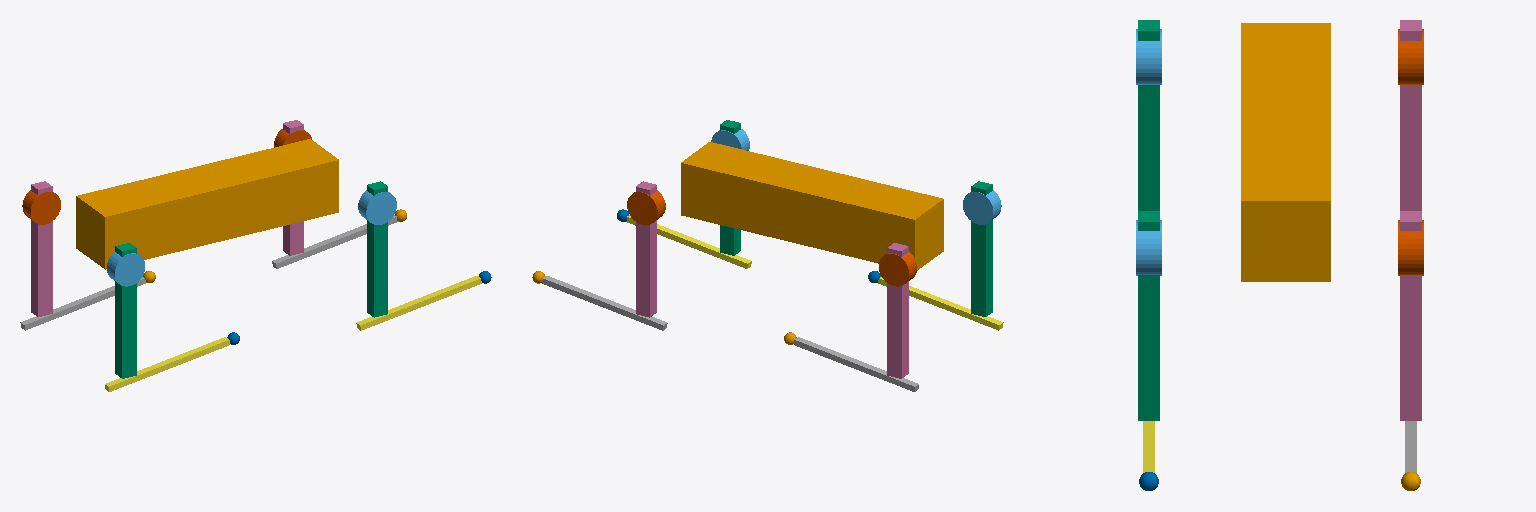
The robot description file, URDF, robot "arclabdog":
<?xml version="1.0" ?>
<robot name="arclabdog" xmlns:xacro="http://www.ros.org/wiki/xacro">
  <link name="trunk">
    <visual>
      <origin rpy="0 0 0" xyz="0 0 0"/>
      <geometry>
        <box size="0.7 0.15 0.15"/>
      </geometry>
    </visual>
    <collision>
      <origin rpy="0 0 0" xyz="0 0 0"/>
      <geometry>
        <box size="0.7 0.3 0.15"/>
      </geometry>
    </collision>
    <inertial>
      <origin xyz="0 0 0" rpy="0 0 0" />
      <mass value="2.0" />
      <inertia ixx="0.08" ixy="0" ixz="0" iyy="0.015" iyz="0" izz="0.022" />
    </inertial>
  </link>
  <joint name="FR_hip_joint" type="revolute">
    <origin rpy="0 0 0" xyz="0.376 -0.1065 0"/>
    <parent link="trunk"/>
    <child link="FR_hip"/>
    <axis xyz="1 0 0"/>
    <dynamics damping="0" friction="0"/>
    <limit effort="44.4" lower="-1.2217304764" upper="1.2217304764" velocity="40"/>
  </joint>
  <link name="FR_hip">
    <visual>
      <origin rpy="1.57079632679 0 0" xyz="0 -0.1215 0"/>
      <geometry>
        <cylinder length="0.0418" radius="0.046"/>
      </geometry>
    </visual>
    <collision>
      <origin rpy="1.57079632679 0 0" xyz="0 -0.1215 0"/>
      <geometry>
        <cylinder length="0.0418" radius="0.046"/>
      </geometry>
    </collision>
    <inertial>
      <origin rpy="0 0 0" xyz="-0.022 -0.015 0"/>
      <mass value="1.993"/>
      <inertia ixx="0.002" ixy="0" ixz="0" iyy="0.004" iyz="0" izz="0.005"/>
    </inertial>
  </link>
  <joint name="FR_thigh_joint" type="revolute">
    <origin rpy="0 0 0" xyz="0 -0.1215 0"/>
    <parent link="FR_hip"/>
    <child link="FR_thigh"/>
    <axis xyz="0 1 0"/>
    <dynamics damping="0" friction="0"/>
    <limit effort="44.4" velocity="40"/>
  </joint>
  <link name="FR_thigh">
    <visual>
      <origin rpy="0 1.57079632679 0" xyz="0 0 -0.125"/>
      <geometry>
        <box size="0.3645 0.0374 0.043"/>
      </geometry>
    </visual>
    <collision>
      <origin rpy="0 1.57079632679 0" xyz="0 0 -0.125"/>
      <geometry>
        <box size="0.3645 0.0374 0.043"/>
      </geometry>
    </collision>
    <inertial>
      <origin rpy="0 0 0" xyz="-0.005 0.003 -0.048"/>
      <mass value="0.639"/>
      <inertia ixx="0.005" ixy="0" ixz="0" iyy="0.005" iyz="0" izz="0"/>
    </inertial>
  </link>
  <joint name="FR_calf_joint" type="revolute">
    <origin rpy="0 0 0" xyz="0 0 -0.3245"/>
    <parent link="FR_thigh"/>
    <child link="FR_calf"/>
    <axis xyz="0 1 0"/>
    <dynamics damping="0" friction="0"/>
    <limit effort="44.4" lower="-2.77507351067" upper="-0.645771823238" velocity="40"/>
  </joint>
  <link name="FR_calf">
    <visual>
      <origin rpy="0 1.57079632679 0" xyz="0 0 -0.125"/>
      <geometry>
        <box size="0.3645 0.0208 0.016"/>
      </geometry>
    </visual>
    <collision>
      <origin rpy="0 1.57079632679 0" xyz="0 0 -0.125"/>
      <geometry>
        <box size="0.3645 0.0208 0.016"/>
      </geometry>
    </collision>
    <inertial>
      <origin rpy="0 0 0" xyz="0.002 0 -0.142"/>
      <mass value="0.207"/>
      <inertia ixx="0.006" ixy="0" ixz="0" iyy="0.006" iyz="0" izz="0"/>
    </inertial>
  </link>
  <joint name="FR_foot_fixed" type="fixed" dont_collapse="true">
    <origin rpy="0 0 0" xyz="0 0 -0.3245"/>
    <parent link="FR_calf"/>
    <child link="FR_foot"/>
  </joint>
  <link name="FR_foot">
    <visual>
      <origin rpy="0 0 0" xyz="0 0 0"/>
      <geometry>
        <sphere radius="0.0165"/>
      </geometry>
      <material name="green"/>
    </visual>
    <collision>
      <origin rpy="0 0 0" xyz="0 0 0"/>
      <geometry>
        <sphere radius="0.0165"/>
      </geometry>
    </collision>
    <inertial>
      <mass value="0.06"/>
      <inertia ixx="0" ixy="0" ixz="0" iyy="0" iyz="0" izz="0"/>
    </inertial>
  </link>
  <joint name="FL_hip_joint" type="revolute">
    <origin rpy="0 0 0" xyz="0.376 0.1065 0"/>
    <parent link="trunk"/>
    <child link="FL_hip"/>
    <axis xyz="1 0 0"/>
    <dynamics damping="0" friction="0"/>
    <limit effort="44.4" lower="-1.2217304764" upper="1.2217304764" velocity="40"/>
  </joint>
  <link name="FL_hip">
    <visual>
      <origin rpy="1.57079632679 0 0" xyz="0 0.1015 0"/>
      <geometry>
        <cylinder length="0.0418" radius="0.046"/>
      </geometry>
    </visual>
    <collision>
      <origin rpy="1.57079632679 0 0" xyz="0 0.1015 0"/>
      <geometry>
        <cylinder length="0.0418" radius="0.046"/>
      </geometry>
    </collision>
    <inertial>
      <origin rpy="0 0 0" xyz="-0.022 0.015 0"/>
      <mass value="1.993"/>
      <inertia ixx="0.002" ixy="0" ixz="0" iyy="0.004" iyz="0" izz="0.005"/>
    </inertial>
  </link>
  <joint name="FL_thigh_joint" type="revolute">
    <origin rpy="0 0 0" xyz="0 0.1015 0"/>
    <parent link="FL_hip"/>
    <child link="FL_thigh"/>
    <axis xyz="0 1 0"/>
    <dynamics damping="0" friction="0"/>
    <limit effort="44.4" velocity="40"/>
  </joint>
  <link name="FL_thigh">
    <visual>
      <origin rpy="0 1.57079632679 0" xyz="0 0 -0.125"/>
      <geometry>
        <box size="0.3645 0.0374 0.043"/>
      </geometry>
    </visual>
    <collision>
      <origin rpy="0 1.57079632679 0" xyz="0 0 -0.125"/>
      <geometry>
        <box size="0.3645 0.0374 0.043"/>
      </geometry>
    </collision>
    <inertial>
      <origin rpy="0 0 0" xyz="-0.005 -0.003 -0.048"/>
      <mass value="0.639"/>
      <inertia ixx="0.005" ixy="0" ixz="0" iyy="0.005" iyz="0" izz="0"/>
    </inertial>
  </link>
  <joint name="FL_calf_joint" type="revolute">
    <origin rpy="0 0 0" xyz="0 0 -0.3245"/>
    <parent link="FL_thigh"/>
    <child link="FL_calf"/>
    <axis xyz="0 1 0"/>
    <dynamics damping="0" friction="0"/>
    <limit effort="44.4" lower="-2.77507351067" upper="-0.645771823238" velocity="40"/>
  </joint>
  <link name="FL_calf">
    <visual>
      <origin rpy="0 1.57079632679 0" xyz="0 0 -0.125"/>
      <geometry>
        <box size="0.3645 0.0208 0.016"/>
      </geometry>
    </visual>
    <collision>
      <origin rpy="0 1.57079632679 0" xyz="0 0 -0.125"/>
      <geometry>
        <box size="0.3645 0.0208 0.016"/>
      </geometry>
    </collision>
    <inertial>
      <origin rpy="0 0 0" xyz="0.002 0 -0.142"/>
      <mass value="0.207"/>
      <inertia ixx="0.006" ixy="0" ixz="0" iyy="0.006" iyz="0" izz="0"/>
    </inertial>
  </link>
  <joint name="FL_foot_fixed" type="fixed" dont_collapse="true">
    <origin rpy="0 0 0" xyz="0 0 -0.3245"/>
    <parent link="FL_calf"/>
    <child link="FL_foot"/>
  </joint>
  <link name="FL_foot">
    <visual>
      <origin rpy="0 0 0" xyz="0 0 0"/>
      <geometry>
        <sphere radius="0.0165"/>
      </geometry>
      <material name="green"/>
    </visual>
    <collision>
      <origin rpy="0 0 0" xyz="0 0 0"/>
      <geometry>
        <sphere radius="0.0165"/>
      </geometry>
    </collision>
    <inertial>
      <mass value="0.06"/>
      <inertia ixx="0" ixy="0" ixz="0" iyy="0" iyz="0" izz="0"/>
    </inertial>
  </link>
  <joint name="RR_hip_joint" type="revolute">
    <origin rpy="0 0 0" xyz="-0.376 -0.1065 0"/>
    <parent link="trunk"/>
    <child link="RR_hip"/>
    <axis xyz="1 0 0"/>
    <dynamics damping="0" friction="0"/>
    <limit effort="44.4" lower="-1.2217304764" upper="1.2217304764" velocity="40"/>
  </joint>
  <link name="RR_hip">
    <visual>
      <origin rpy="1.57079632679 0 0" xyz="0 -0.1215 0"/>
      <geometry>
        <cylinder length="0.0418" radius="0.046"/>
      </geometry>
    </visual>
    <collision>
      <origin rpy="1.57079632679 0 0" xyz="0 -0.1215 0"/>
      <geometry>
        <cylinder length="0.0418" radius="0.046"/>
      </geometry>
    </collision>
    <inertial>
      <origin rpy="0 0 0" xyz="0.022 -0.015 0"/>
      <mass value="1.993"/>
      <inertia ixx="0.002" ixy="0" ixz="0" iyy="0.004" iyz="0" izz="0.005"/>
    </inertial>
  </link>
  <joint name="RR_thigh_joint" type="revolute">
    <origin rpy="0 0 0" xyz="0 -0.1215 0"/>
    <parent link="RR_hip"/>
    <child link="RR_thigh"/>
    <axis xyz="0 1 0"/>
    <dynamics damping="0" friction="0"/>
    <limit effort="44.4" velocity="40"/>
  </joint>
  <link name="RR_thigh">
    <visual>
      <origin rpy="0 1.57079632679 0" xyz="0 0 -0.125"/>
      <geometry>
        <box size="0.3645 0.0374 0.043"/>
      </geometry>
    </visual>
    <collision>
      <origin rpy="0 1.57079632679 0" xyz="0 0 -0.125"/>
      <geometry>
        <box size="0.3645 0.0374 0.043"/>
      </geometry>
    </collision>
    <inertial>
      <origin rpy="0 0 0" xyz="-0.005 0.003 -0.048"/>
      <mass value="0.639"/>
      <inertia ixx="0.005" ixy="0" ixz="0" iyy="0.005" iyz="0" izz="0"/>
    </inertial>
  </link>
  <joint name="RR_calf_joint" type="revolute">
    <origin rpy="0 0 0" xyz="0 0 -0.3245"/>
    <parent link="RR_thigh"/>
    <child link="RR_calf"/>
    <axis xyz="0 1 0"/>
    <dynamics damping="0" friction="0"/>
    <limit effort="44.4" lower="-2.77507351067" upper="-0.645771823238" velocity="40"/>
  </joint>
  <link name="RR_calf">
    <visual>
      <origin rpy="0 1.57079632679 0" xyz="0 0 -0.125"/>
      <geometry>
        <box size="0.3645 0.0208 0.016"/>
      </geometry>
    </visual>
    <collision>
      <origin rpy="0 1.57079632679 0" xyz="0 0 -0.125"/>
      <geometry>
        <box size="0.3645 0.0208 0.016"/>
      </geometry>
    </collision>
    <inertial>
      <origin rpy="0 0 0" xyz="0.002 0 -0.142"/>
      <mass value="0.207"/>
      <inertia ixx="0.006" ixy="0" ixz="0" iyy="0.006" iyz="0" izz="0"/>
    </inertial>
  </link>
  <joint name="RR_foot_fixed" type="fixed" dont_collapse="true">
    <origin rpy="0 0 0" xyz="0 0 -0.3245"/>
    <parent link="RR_calf"/>
    <child link="RR_foot"/>
  </joint>
  <link name="RR_foot">
    <visual>
      <origin rpy="0 0 0" xyz="0 0 0"/>
      <geometry>
        <sphere radius="0.0165"/>
      </geometry>
      <material name="green"/>
    </visual>
    <collision>
      <origin rpy="0 0 0" xyz="0 0 0"/>
      <geometry>
        <sphere radius="0.0165"/>
      </geometry>
    </collision>
    <inertial>
      <mass value="0.06"/>
      <inertia ixx="0" ixy="0" ixz="0" iyy="0" iyz="0" izz="0"/>
    </inertial>
  </link>
  <joint name="RL_hip_joint" type="revolute">
    <origin rpy="0 0 0" xyz="-0.376 0.1065 0"/>
    <parent link="trunk"/>
    <child link="RL_hip"/>
    <axis xyz="1 0 0"/>
    <dynamics damping="0" friction="0"/>
    <limit effort="44.4" lower="-1.2217304764" upper="1.2217304764" velocity="40"/>
  </joint>
  <link name="RL_hip">
    <visual>
      <origin rpy="1.57079632679 0 0" xyz="0 0.1015 0"/>
      <geometry>
        <cylinder length="0.0418" radius="0.046"/>
      </geometry>
    </visual>
    <collision>
      <origin rpy="1.57079632679 0 0" xyz="0 0.1015 0"/>
      <geometry>
        <cylinder length="0.0418" radius="0.046"/>
      </geometry>
    </collision>
    <inertial>
      <origin rpy="0 0 0" xyz="0.022 0.015 0"/>
      <mass value="1.993"/>
      <inertia ixx="0.002" ixy="0" ixz="0" iyy="0.004" iyz="0" izz="0.005"/>
    </inertial>
  </link>
  <joint name="RL_thigh_joint" type="revolute">
    <origin rpy="0 0 0" xyz="0 0.1015 0"/>
    <parent link="RL_hip"/>
    <child link="RL_thigh"/>
    <axis xyz="0 1 0"/>
    <dynamics damping="0" friction="0"/>
    <limit effort="44.4" velocity="40"/>
  </joint>
  <link name="RL_thigh">
    <visual>
      <origin rpy="0 1.57079632679 0" xyz="0 0 -0.125"/>
      <geometry>
        <box size="0.3645 0.0374 0.043"/>
      </geometry>
    </visual>
    <collision>
      <origin rpy="0 1.57079632679 0" xyz="0 0 -0.125"/>
      <geometry>
        <box size="0.3645 0.0374 0.043"/>
      </geometry>
    </collision>
    <inertial>
      <origin rpy="0 0 0" xyz="-0.005 -0.003 -0.048"/>
      <mass value="0.639"/>
      <inertia ixx="0.005" ixy="0" ixz="0" iyy="0.005" iyz="0" izz="0"/>
    </inertial>
  </link>
  <joint name="RL_calf_joint" type="revolute">
    <origin rpy="0 0 0" xyz="0 0 -0.3245"/>
    <parent link="RL_thigh"/>
    <child link="RL_calf"/>
    <axis xyz="0 1 0"/>
    <dynamics damping="0" friction="0"/>
    <limit effort="44.4" lower="-2.77507351067" upper="-0.645771823238" velocity="40"/>
  </joint>
  <link name="RL_calf">
    <visual>
      <origin rpy="0 1.57079632679 0" xyz="0 0 -0.125"/>
      <geometry>
        <box size="0.3645 0.0208 0.016"/>
      </geometry>
    </visual>
    <collision>
      <origin rpy="0 1.57079632679 0" xyz="0 0 -0.125"/>
      <geometry>
        <box size="0.3645 0.0208 0.016"/>
      </geometry>
    </collision>
    <inertial>
      <origin rpy="0 0 0" xyz="0.002 0 -0.142"/>
      <mass value="0.207"/>
      <inertia ixx="0.006" ixy="0" ixz="0" iyy="0.006" iyz="0" izz="0"/>
    </inertial>
  </link>
  <joint name="RL_foot_fixed" type="fixed" dont_collapse="true">
    <origin rpy="0 0 0" xyz="0 0 -0.3245"/>
    <parent link="RL_calf"/>
    <child link="RL_foot"/>
  </joint>
  <link name="RL_foot">
    <visual>
      <origin rpy="0 0 0" xyz="0 0 0"/>
      <geometry>
        <sphere radius="0.0165"/>
      </geometry>
      <material name="green"/>
    </visual>
    <collision>
      <origin rpy="0 0 0" xyz="0 0 0"/>
      <geometry>
        <sphere radius="0.0165"/>
      </geometry>
    </collision>
    <inertial>
      <mass value="0.06"/>
      <inertia ixx="0" ixy="0" ixz="0" iyy="0" iyz="0" izz="0"/>
    </inertial>
  </link>
</robot>

--- Facts derived from the render (not from the file) ---
The picture shows the robot from 3 angles, left to right: view 1: azimuth 30°, elevation 25°; view 2: azimuth 150°, elevation 25°; view 3: azimuth 270°, elevation 25°; orthographic projection.
Robot: arclabdog — 17 links, 16 joints (12 revolute, 4 fixed); root link trunk; default pose: all joints at 0 but 4 set to mid-range because 0 is outside their limits (FR_calf_joint = -1.71, FL_calf_joint = -1.71, RR_calf_joint = -1.71, RL_calf_joint = -1.71).
Links seen in each view (by area): view 1: trunk, RL_thigh, RR_thigh, FR_thigh, FR_calf, RR_calf, FR_hip, RR_hip, RL_hip, FL_calf, RL_calf, FL_thigh; view 2: trunk, RR_thigh, RL_thigh, FL_thigh, FL_calf, RL_calf, FL_hip, RR_hip, RL_hip, FR_calf, RR_calf, FR_thigh (+1 smaller); view 3: trunk, FR_thigh, FL_thigh, RR_thigh, RL_thigh, FR_hip, FL_hip, RR_hip, RL_hip, FR_calf, FL_calf.
Link boxes in pixels (x1,y1,x2,y2): trunk: (76,139,338,269); RL_thigh: (31,181,52,316); RR_thigh: (115,243,136,378); FR_thigh: (367,181,387,317); FR_calf: (356,276,481,330); RR_calf: (105,337,229,391); FR_hip: (358,190,396,224); RR_hip: (107,252,144,286); RL_hip: (22,190,60,224); FL_calf: (272,215,397,268); RL_calf: (20,277,145,330); FL_thigh: (283,120,303,255); trunk: (681,142,943,270); RR_thigh: (971,181,992,316); RL_thigh: (887,243,908,378); FL_thigh: (636,181,656,317); FL_calf: (542,276,667,330); RL_calf: (794,337,918,391); FL_hip: (627,190,665,224); RR_hip: (963,190,1001,224); RL_hip: (879,252,916,286); FR_calf: (626,215,751,268); RR_calf: (878,277,1003,330); FR_thigh: (720,120,740,255); trunk: (1241,23,1330,281); FR_thigh: (1138,211,1159,420); FL_thigh: (1400,211,1421,420); RR_thigh: (1138,20,1159,210); RL_thigh: (1400,20,1421,210); FR_hip: (1136,220,1161,275); FL_hip: (1398,220,1423,275); RR_hip: (1136,29,1161,84); RL_hip: (1398,29,1423,84); FR_calf: (1143,421,1154,472); FL_calf: (1405,421,1416,472).
Bounding box of the posed robot: 1.15 × 0.4778 × 0.4154 m (x, y, z).
Geometry: primitives only (box / cylinder / sphere), no mesh files.